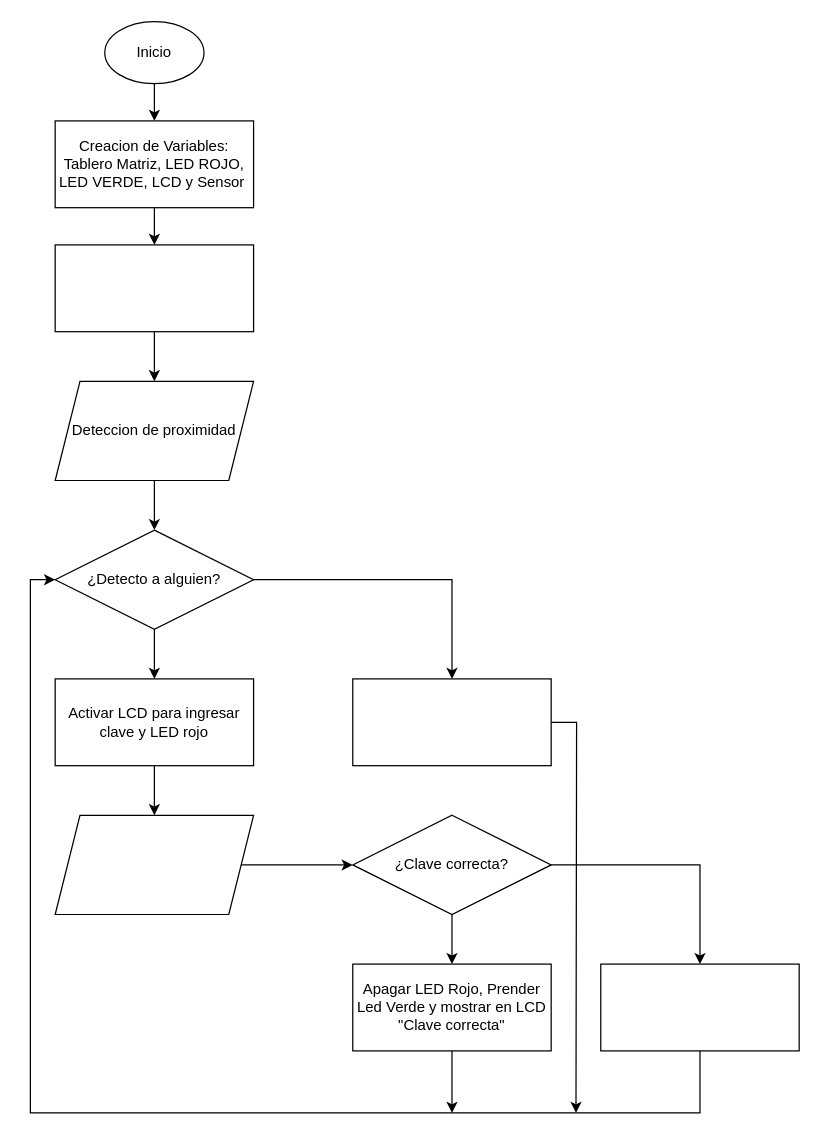
Some shapes in this 821 by 1145 pixel diagram are drawn without their labels. Each missing label, with the box of its shape:
Apaga LCD y LED Rojo: (352, 678, 551, 766)
Configuracion de modo de trabajo de pines: (54, 244, 254, 332)
Ingreso de clave en Teclado: (54, 814, 254, 914)
Mostrar en LCD "Clave incorrecta": (600, 963, 799, 1051)
